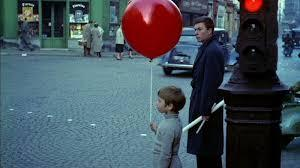red: (122, 0, 183, 61)
